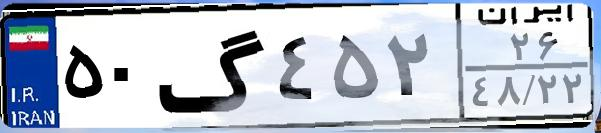0: (110, 28, 156, 98)
2: (385, 28, 445, 110), (560, 70, 590, 125), (508, 27, 537, 80), (535, 70, 560, 125)
4: (270, 28, 330, 110), (470, 70, 495, 125)
5: (330, 28, 385, 110), (57, 26, 110, 100)
6: (537, 27, 568, 80)
8: (495, 70, 520, 125)
گ: (156, 12, 270, 120)
